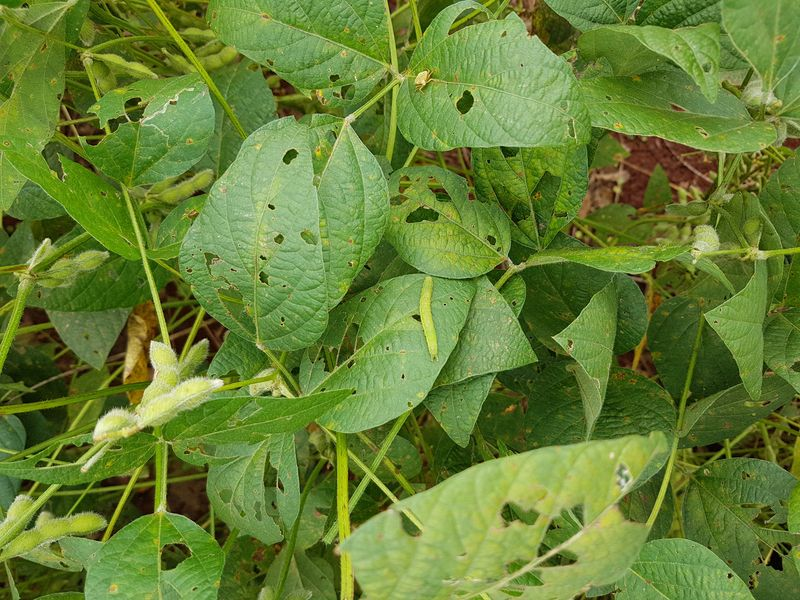Anticarsia_gemmatalis: (400, 269, 461, 366)
Euschistus_heros_ninfa: (404, 63, 441, 95)
